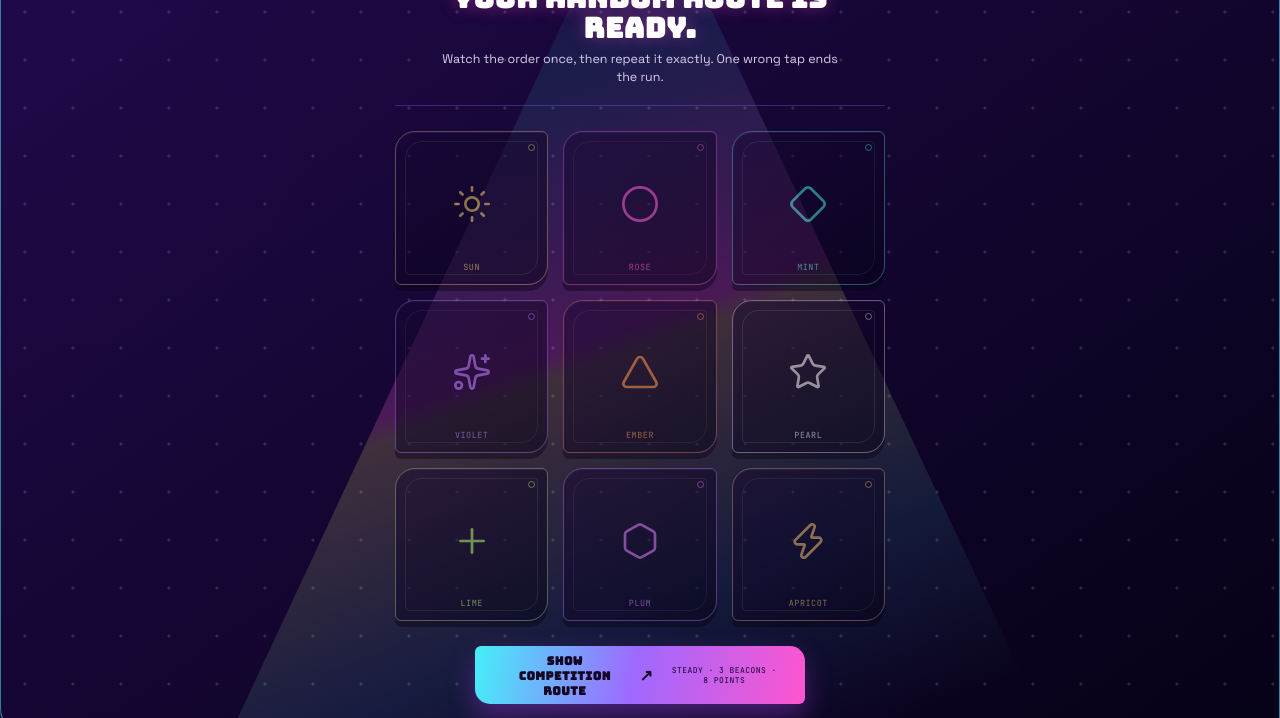
it: beacon-bounce game › uses a server-created route and verifies each beacon through the private endpoint
(page scrolled)
Step 1. Click the button "Show competition route ↗ Steady · 3 beacons · 8 points" → (640, 675), box left=475, top=646, right=805, bottom=704
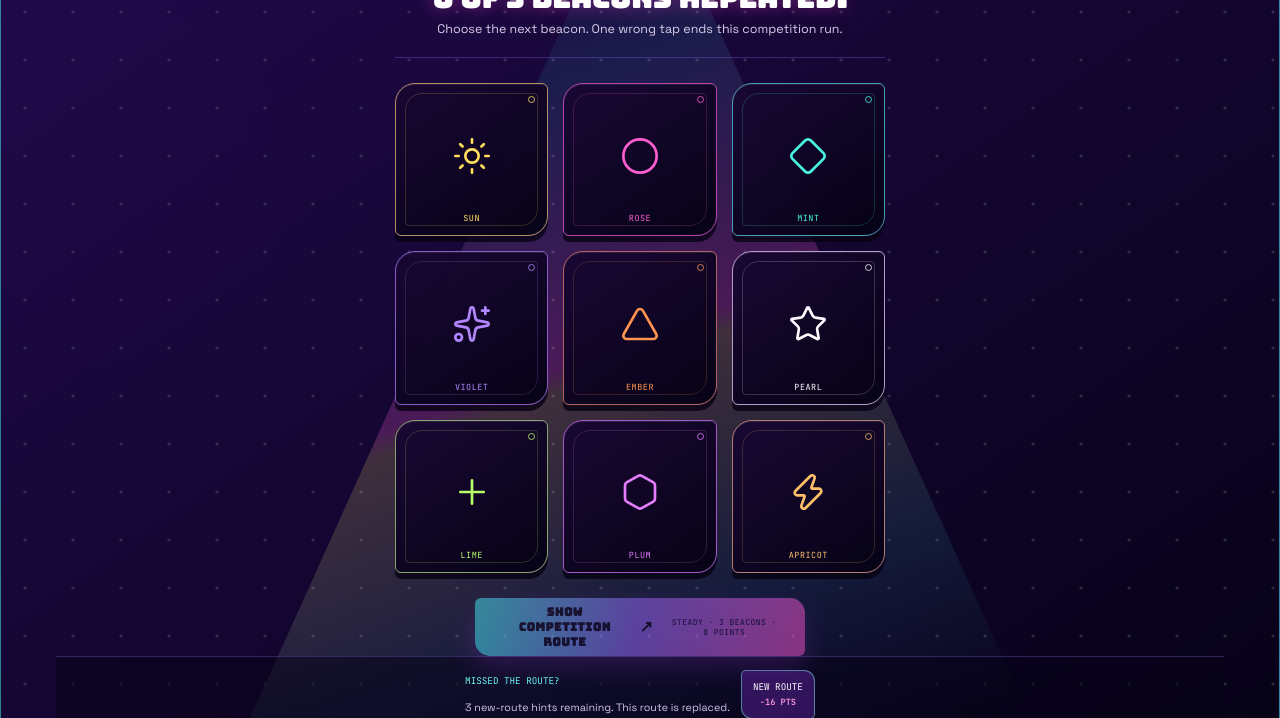
Expected: the button with aria-label "Beacon Sun" is enabled
Step 2. Click the button with aria-label "Beacon Sun" → (472, 160), box left=395, top=83, right=548, bottom=236
(page scrolled)
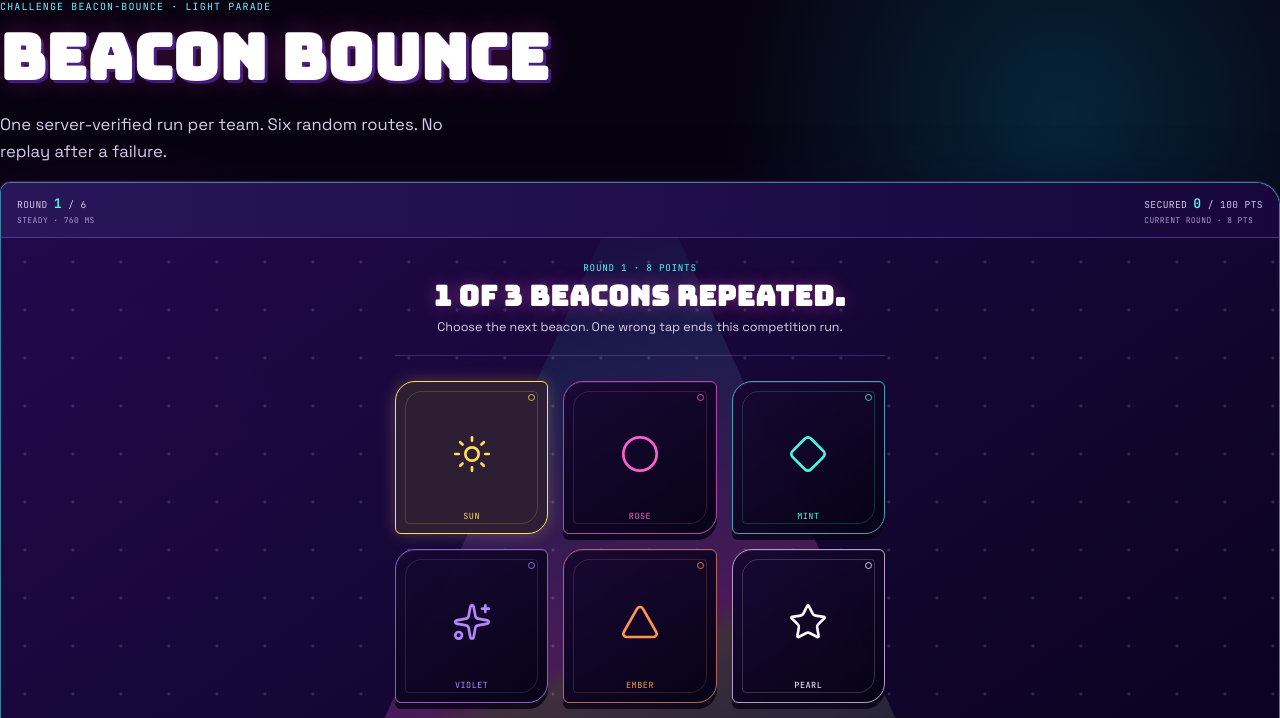
Expected: the text "1 of 3 beacons repeated." is shown, left=434, top=277, right=846, bottom=314
